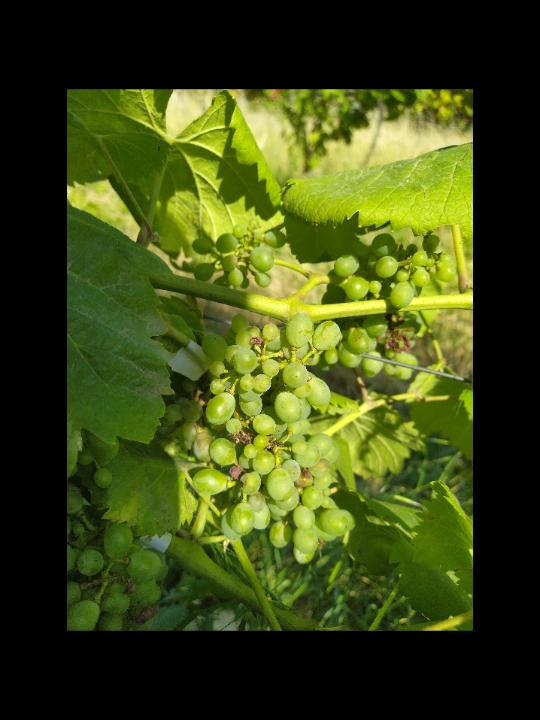grape: (165, 312, 359, 566), (320, 232, 458, 381), (190, 217, 287, 289)
